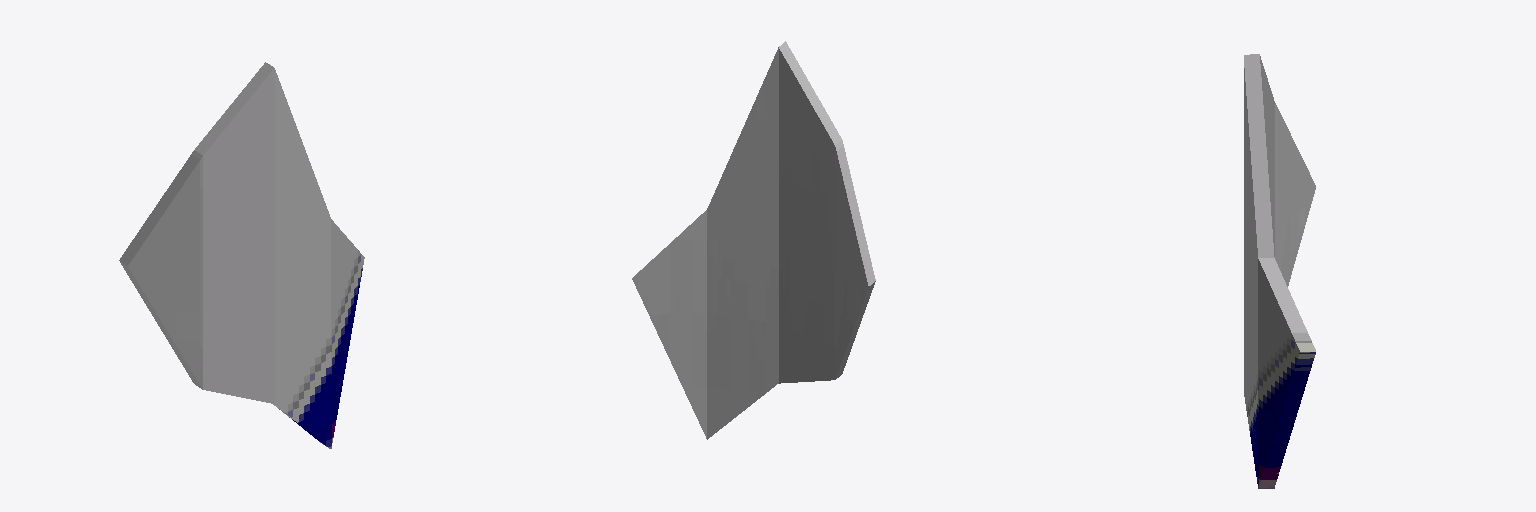
3 renders of one model, left to right at view 1: azimuth 30°, elevation 25°; view 2: azimuth 150°, elevation 25°; view 3: azimuth 270°, elevation 25°, orthographic.
Parts seen in each view (by area): view 1: VodkaShard; view 2: VodkaShard; view 3: VodkaShard.
Boxes of the visible parts, box(x1,y1,x2,y2) form: VodkaShard: box(119, 62, 364, 448); VodkaShard: box(632, 41, 875, 439); VodkaShard: box(1244, 54, 1315, 488).
Size of the model in its own units: 7.95 by 12.87 by 2.11.
Materials: 1 (1 with a texture image).